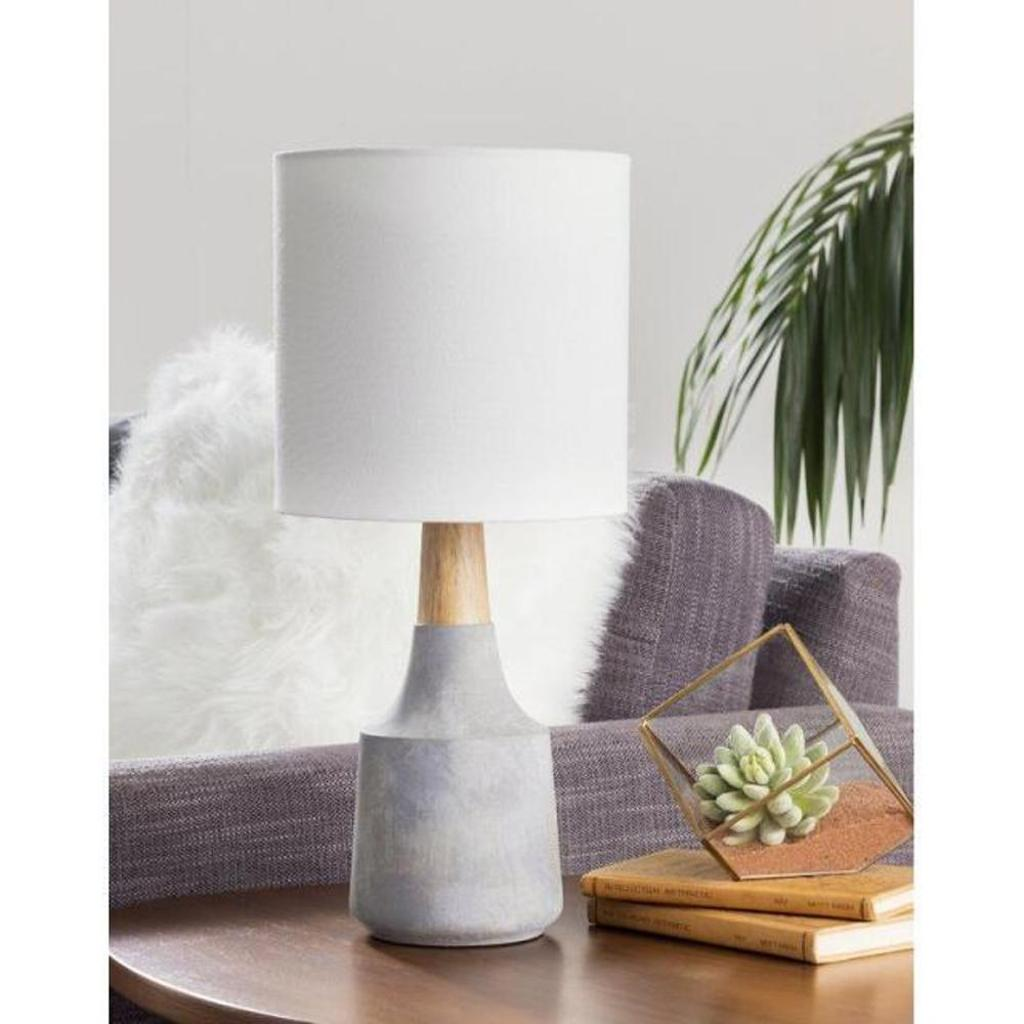shelf: (258, 96, 675, 972)
